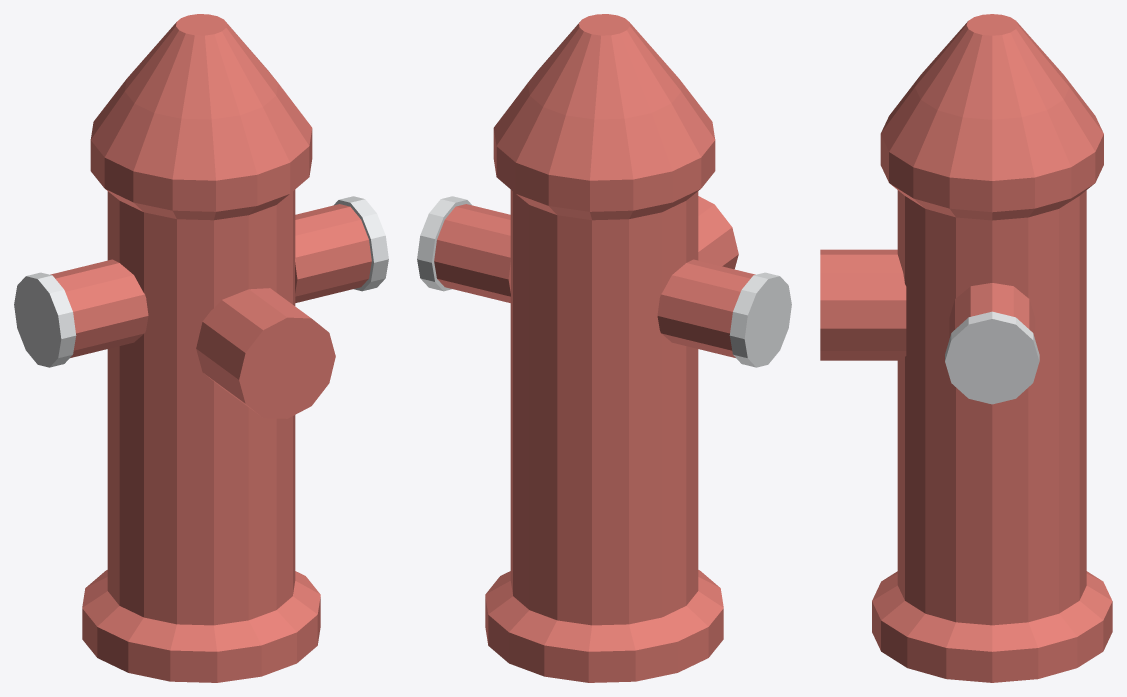
The model's file is hydrant.glb.
3 views of the same model, side by side, from view 1: azimuth 30°, elevation 25°; view 2: azimuth 150°, elevation 25°; view 3: azimuth 270°, elevation 25° (orthographic).
Parts seen in each view (by area): view 1: hydrant_paint_r, hydrant_chrome; view 2: hydrant_paint_r, hydrant_chrome; view 3: hydrant_paint_r, hydrant_chrome.
Part boxes in pixels (box(x1,y1,x2,y2)): hydrant_paint_r: box(50, 14, 371, 682); hydrant_chrome: box(14, 196, 388, 367); hydrant_paint_r: box(434, 14, 755, 682); hydrant_chrome: box(417, 196, 791, 367); hydrant_paint_r: box(820, 14, 1112, 682); hydrant_chrome: box(945, 311, 1039, 404).
Bounding box in the file's own units: 0.44 × 0.78 × 0.34.
